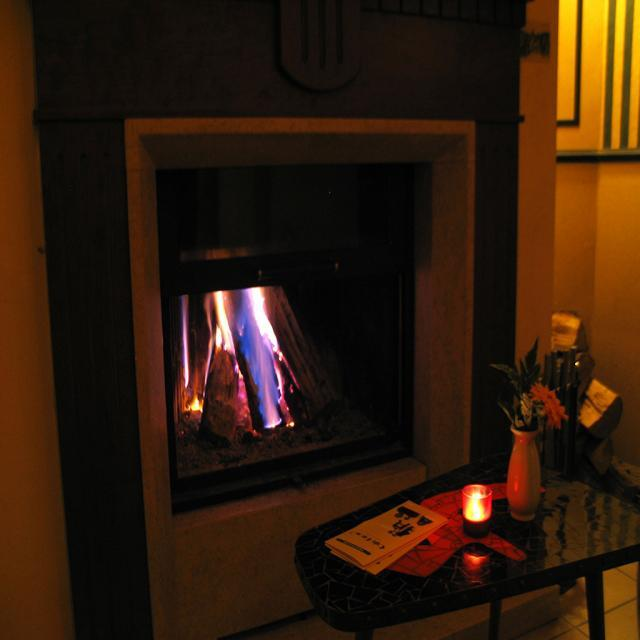Fire: (178, 290, 296, 434), (462, 483, 491, 522)
